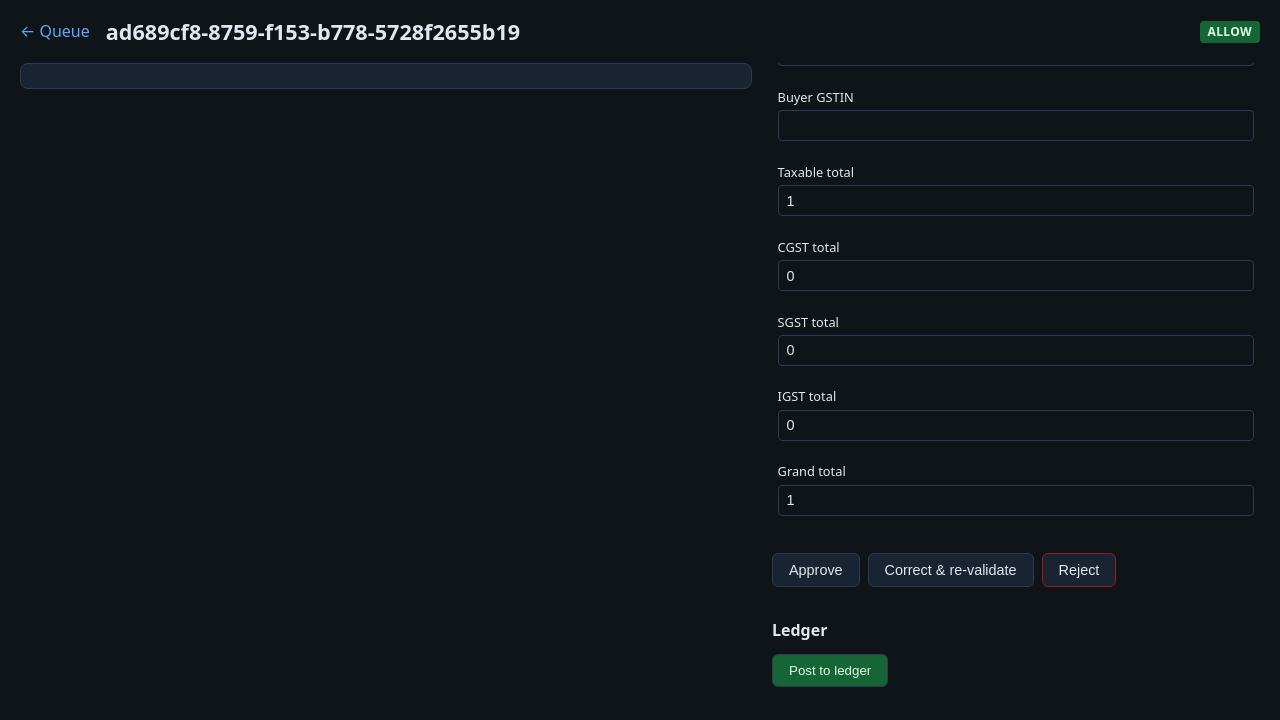
Test: InvoiceDetail API errors › shows toast on 409 review and keeps decision badge ALLOW
The image size is (1280, 720).
(page scrolled)
Expected: the heading "ad689cf8-8759-f153-b778-5728f2655b19" is shown, [106,17,520,46]
Click the button "Approve" at {"x": 816, "y": 570}, box [772,553,860,587]
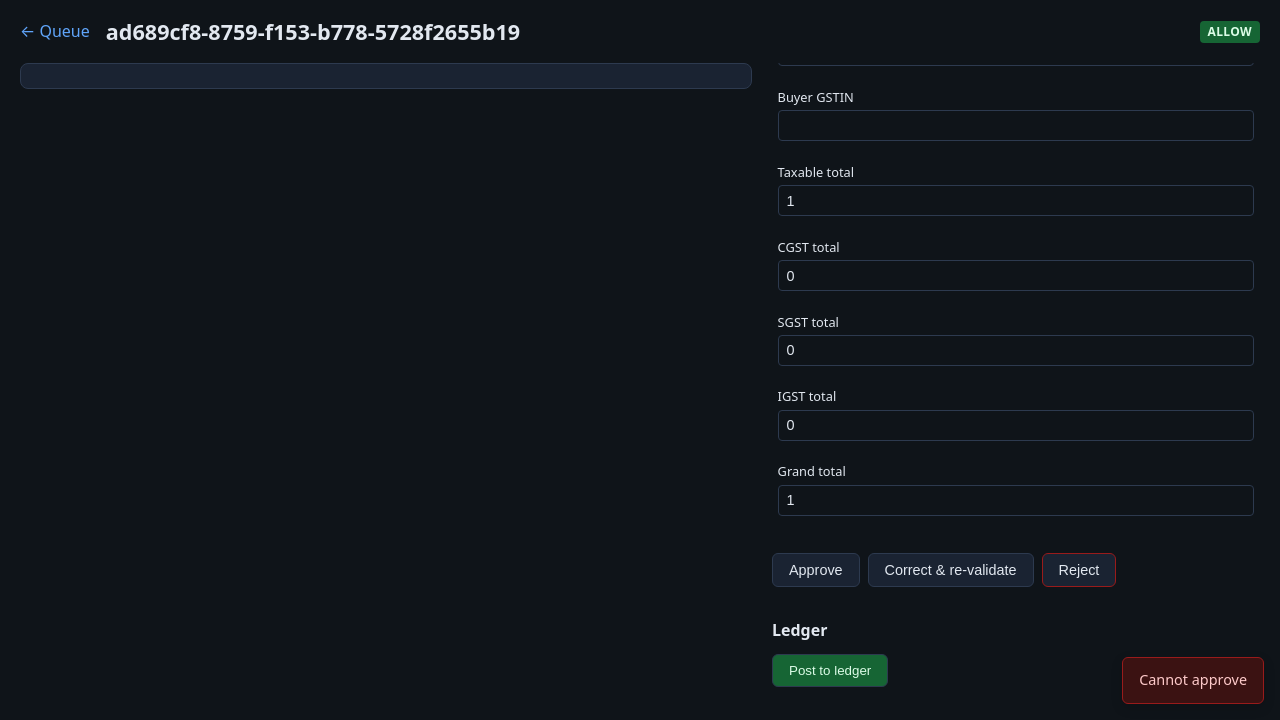
Expected: the text "ALLOW" is shown, [1200,21,1260,43]
Expected: the text "Cannot approve" is shown, [1122,657,1264,704]
